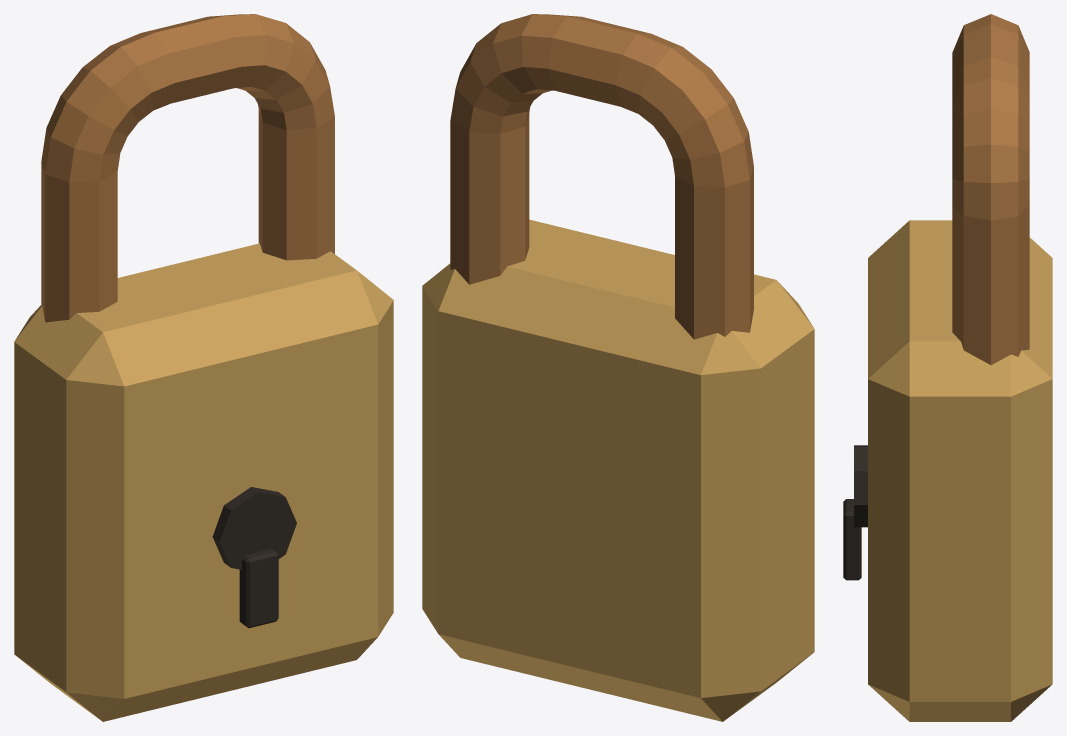
The model's file is heavy_lock.glb.
The picture shows the model from 3 angles, left to right: view 1: azimuth 30°, elevation 25°; view 2: azimuth 150°, elevation 25°; view 3: azimuth 270°, elevation 25°; orthographic projection. The views are drawn at different scales.
Parts seen in each view (by area): view 1: Body, Shackle_Swept_pipe, Keyhole, Keyslot; view 2: Body, Shackle_Swept_pipe; view 3: Body, Shackle_Swept_pipe, Keyslot, Keyhole.
Boxes of the visible parts, x1,y1,x2,y2 form: Body: (14,243,393,721); Shackle_Swept_pipe: (41,14,334,322); Keyhole: (212,487,296,569); Keyslot: (239,549,278,628); Body: (422,219,814,721); Shackle_Swept_pipe: (450,14,753,339); Body: (868,220,1052,721); Shackle_Swept_pipe: (952,14,1029,365); Keyslot: (843,499,861,580); Keyhole: (854,445,867,527).
Bounding box in the file's own units: 0.24 × 0.4451 × 0.136.
